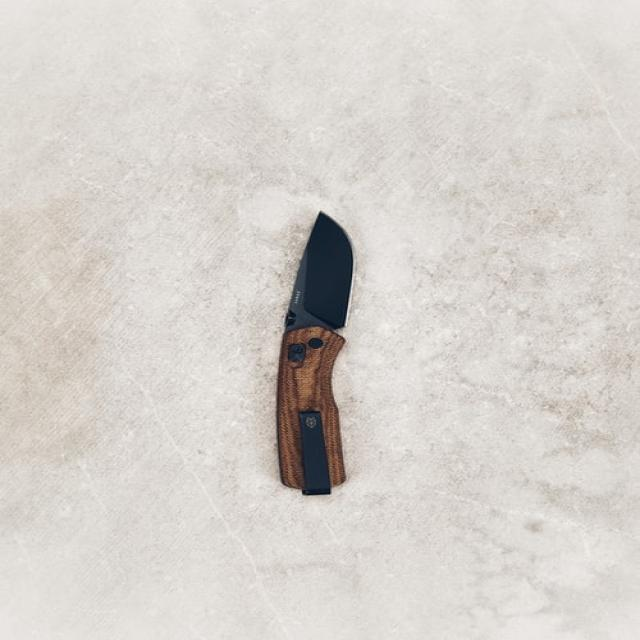faca: (256, 202, 378, 528)
